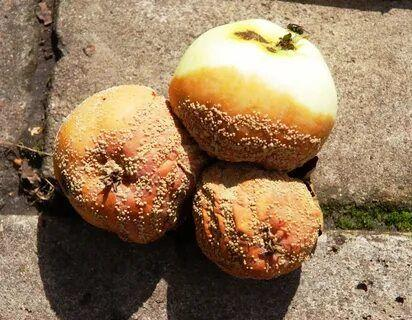Apple: (170, 18, 338, 167), (54, 85, 201, 242), (193, 167, 324, 277)
